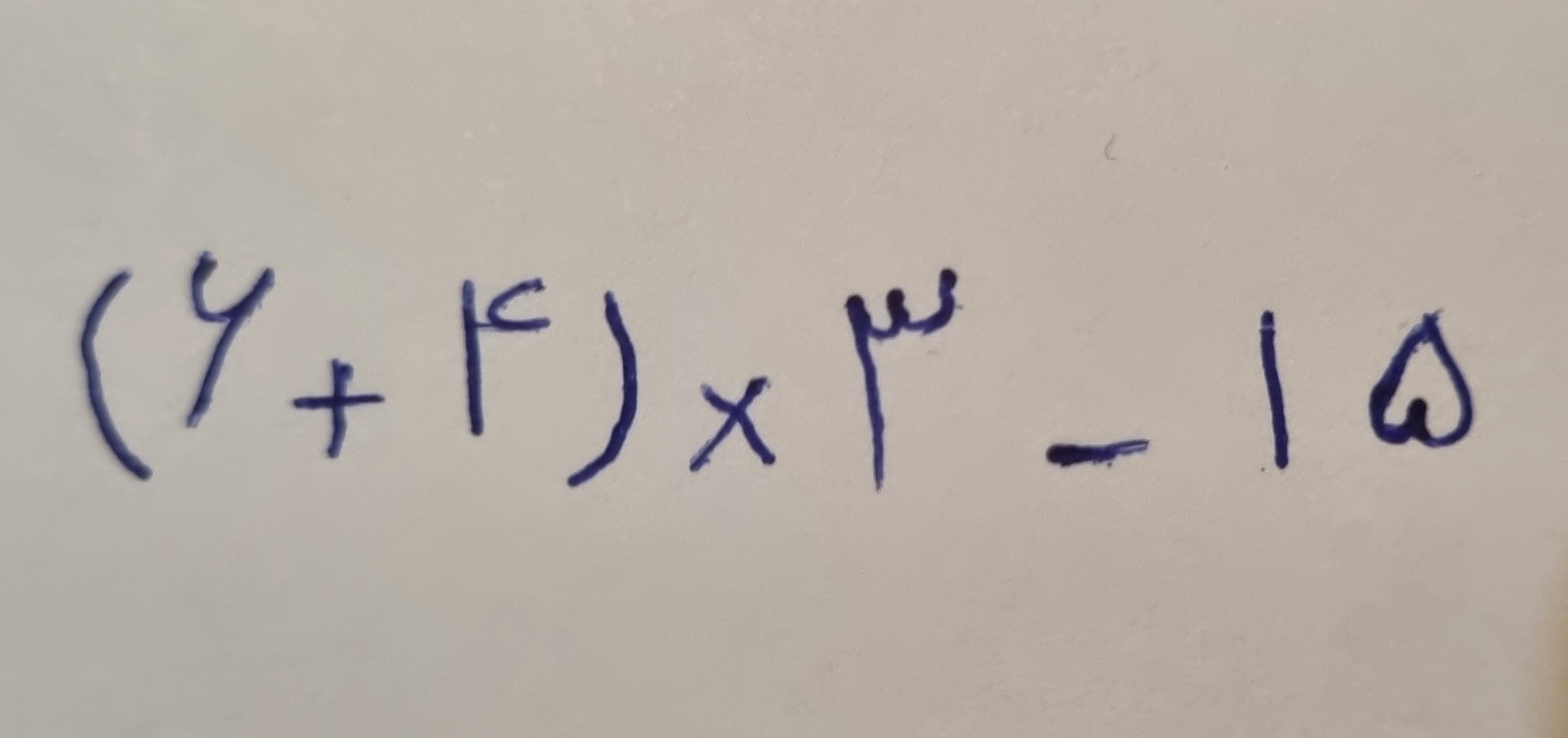character: (844, 266, 960, 494), (77, 266, 154, 484), (183, 249, 275, 430), (1367, 308, 1476, 450), (459, 276, 551, 439), (566, 288, 638, 487), (290, 358, 387, 460), (687, 375, 779, 474), (1258, 306, 1292, 471), (1047, 439, 1153, 467)
